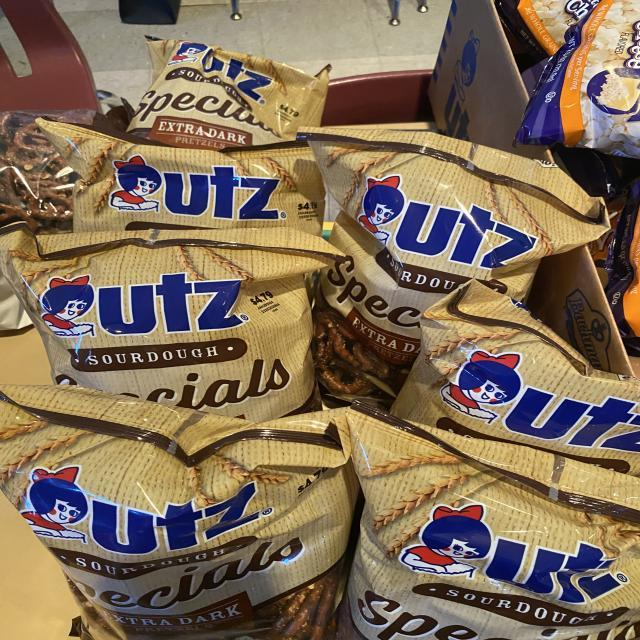Snack: (0, 385, 357, 640), (348, 404, 638, 640), (0, 224, 345, 422), (392, 280, 640, 475), (35, 119, 325, 236), (128, 36, 332, 150), (517, 0, 640, 159), (0, 109, 95, 234), (495, 0, 600, 60), (0, 272, 32, 330)
